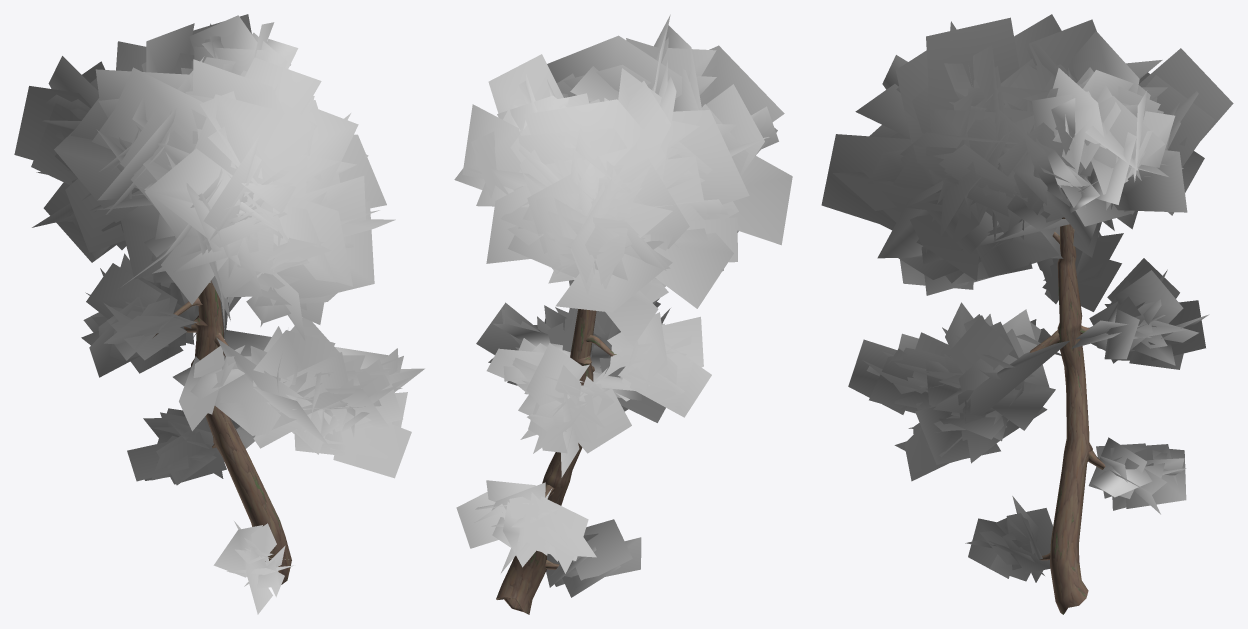
File: SM_EastLands_Conifer_Multi_02_Trunk_A.fbx
The picture shows the model from 3 angles, left to right: view 1: azimuth 30°, elevation 25°; view 2: azimuth 150°, elevation 25°; view 3: azimuth 270°, elevation 25°; orthographic projection. The views are drawn at different scales.
Visible parts, largest first — view 1: SM_EastLands_Conifer_Multi_02_Trunk_A_LOD0; view 2: SM_EastLands_Conifer_Multi_02_Trunk_A_LOD0; view 3: SM_EastLands_Conifer_Multi_02_Trunk_A_LOD0.
Part boxes in pixels (bbox=[...]): SM_EastLands_Conifer_Multi_02_Trunk_A_LOD0: bbox=[14, 14, 424, 614]; SM_EastLands_Conifer_Multi_02_Trunk_A_LOD0: bbox=[454, 14, 792, 614]; SM_EastLands_Conifer_Multi_02_Trunk_A_LOD0: bbox=[821, 14, 1233, 614].
Bounding box in the file's own units: 969 × 1773 × 1219.
